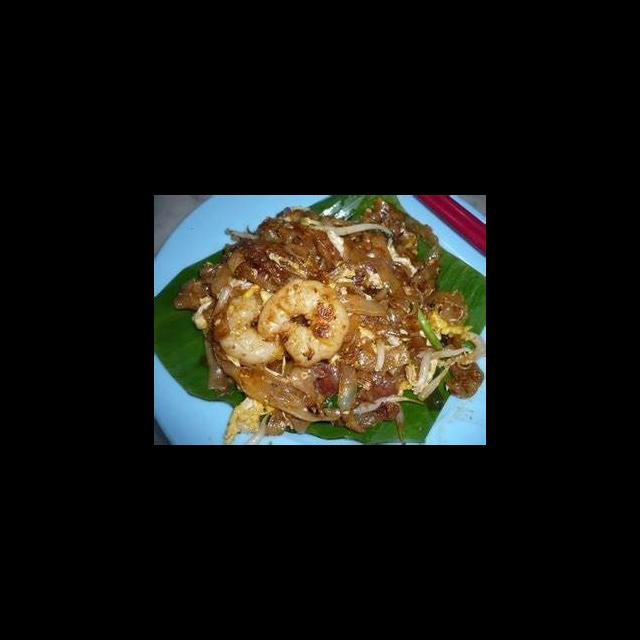food_waste: (227, 283, 425, 381)
